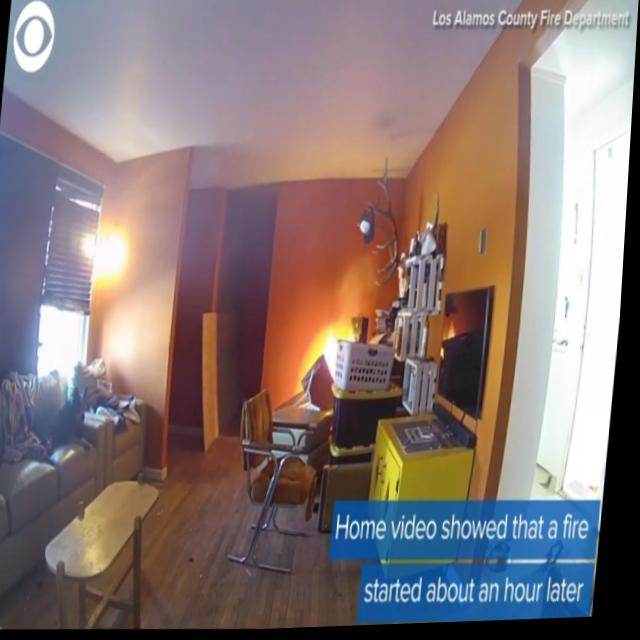fire: (315, 314, 353, 387)
